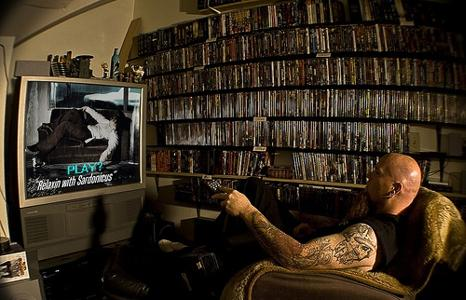person: (172, 154, 424, 290)
